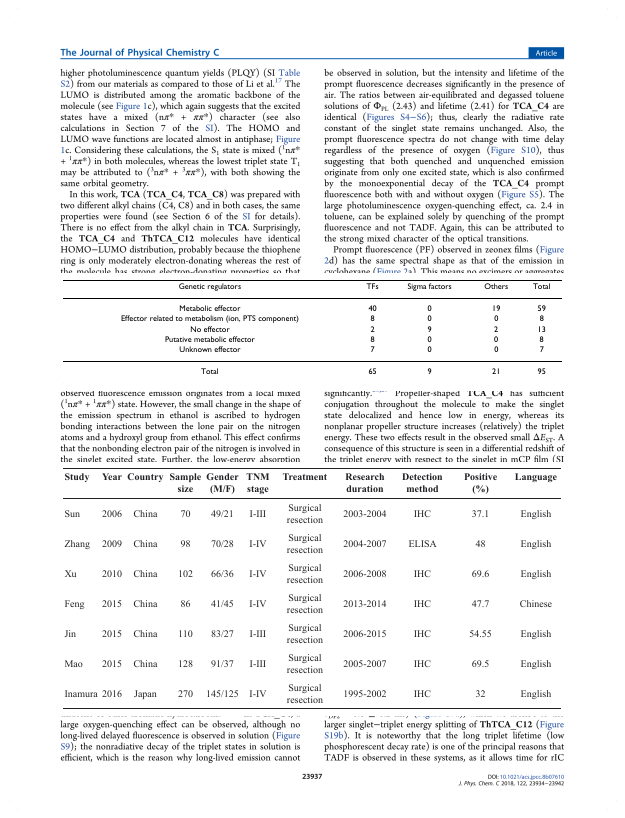borderless: (62, 467, 561, 708), (61, 278, 563, 385)
cell: (119, 315, 299, 325), (401, 473, 443, 496), (344, 473, 385, 496), (285, 533, 324, 557), (163, 335, 255, 345), (285, 504, 324, 527), (285, 563, 324, 586), (285, 593, 324, 616), (285, 623, 324, 646), (285, 653, 324, 676), (285, 683, 324, 706), (463, 473, 498, 496), (168, 473, 202, 496), (205, 473, 239, 496), (177, 282, 242, 292), (245, 473, 270, 496), (178, 305, 241, 314), (178, 346, 241, 355), (342, 539, 387, 551), (281, 473, 328, 484), (513, 473, 558, 484), (342, 510, 387, 521), (342, 569, 387, 580), (342, 599, 387, 610), (342, 629, 387, 640), (342, 659, 387, 670), (342, 689, 387, 700), (406, 282, 452, 292), (126, 473, 164, 484), (189, 325, 230, 335), (519, 539, 552, 551), (518, 599, 553, 610), (63, 689, 98, 700), (205, 689, 239, 700), (519, 510, 552, 521), (519, 569, 552, 580), (519, 629, 552, 640), (519, 659, 552, 670), (519, 689, 552, 700), (407, 539, 437, 551), (63, 539, 91, 551), (132, 539, 158, 551), (63, 473, 90, 484), (210, 539, 234, 551), (132, 510, 158, 521), (132, 569, 158, 580), (132, 599, 158, 610), (132, 629, 158, 640), (132, 659, 158, 670), (210, 510, 234, 521), (101, 539, 123, 551), (210, 569, 234, 580), (210, 599, 234, 610), (210, 629, 234, 640), (468, 629, 492, 640), (210, 659, 234, 670), (133, 689, 157, 700), (483, 282, 509, 292), (101, 473, 123, 484), (100, 510, 122, 521), (100, 569, 122, 580), (63, 599, 85, 610), (101, 599, 123, 610), (101, 629, 123, 640), (101, 659, 123, 670), (101, 689, 123, 700), (248, 539, 267, 551), (412, 510, 432, 521), (470, 510, 490, 521), (412, 569, 432, 580), (470, 569, 490, 580), (412, 599, 432, 610), (470, 599, 490, 610), (412, 629, 432, 640), (63, 659, 83, 670), (412, 659, 432, 670), (470, 659, 490, 670), (412, 689, 432, 700), (248, 510, 267, 521), (248, 569, 267, 580), (248, 599, 267, 610), (248, 629, 267, 640), (248, 659, 267, 670), (248, 689, 267, 700), (531, 282, 551, 292), (63, 510, 81, 521), (200, 368, 219, 378), (177, 569, 194, 580), (177, 659, 194, 670), (177, 689, 194, 700), (177, 629, 193, 640), (63, 569, 77, 580), (63, 629, 77, 640), (179, 539, 191, 551), (474, 539, 486, 551), (365, 282, 379, 292), (179, 510, 191, 521), (179, 599, 191, 610), (474, 689, 486, 700), (536, 325, 546, 335), (367, 368, 377, 378), (491, 368, 501, 378), (536, 368, 546, 378), (367, 305, 377, 314), (491, 305, 501, 314), (536, 305, 546, 314), (369, 315, 375, 325), (426, 315, 432, 325), (493, 315, 499, 325), (538, 315, 544, 325), (369, 325, 375, 335), (426, 325, 432, 335), (493, 325, 499, 335), (369, 335, 375, 345), (426, 335, 432, 345), (493, 335, 499, 345), (538, 335, 544, 345), (426, 368, 432, 378), (426, 305, 432, 314), (369, 346, 375, 355), (426, 346, 432, 355), (493, 346, 499, 355), (538, 346, 544, 355)
